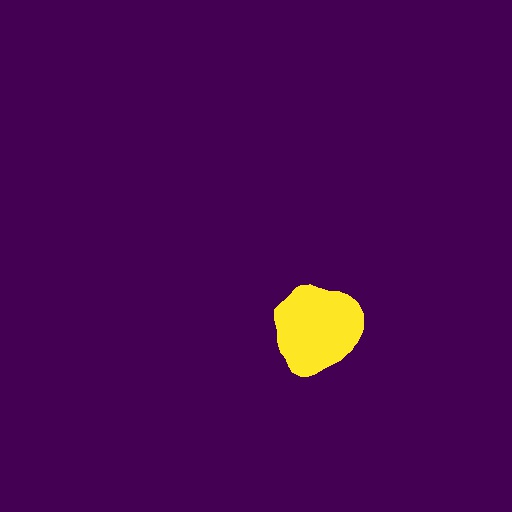Menigiomia_tumour: (274, 284, 364, 377)
